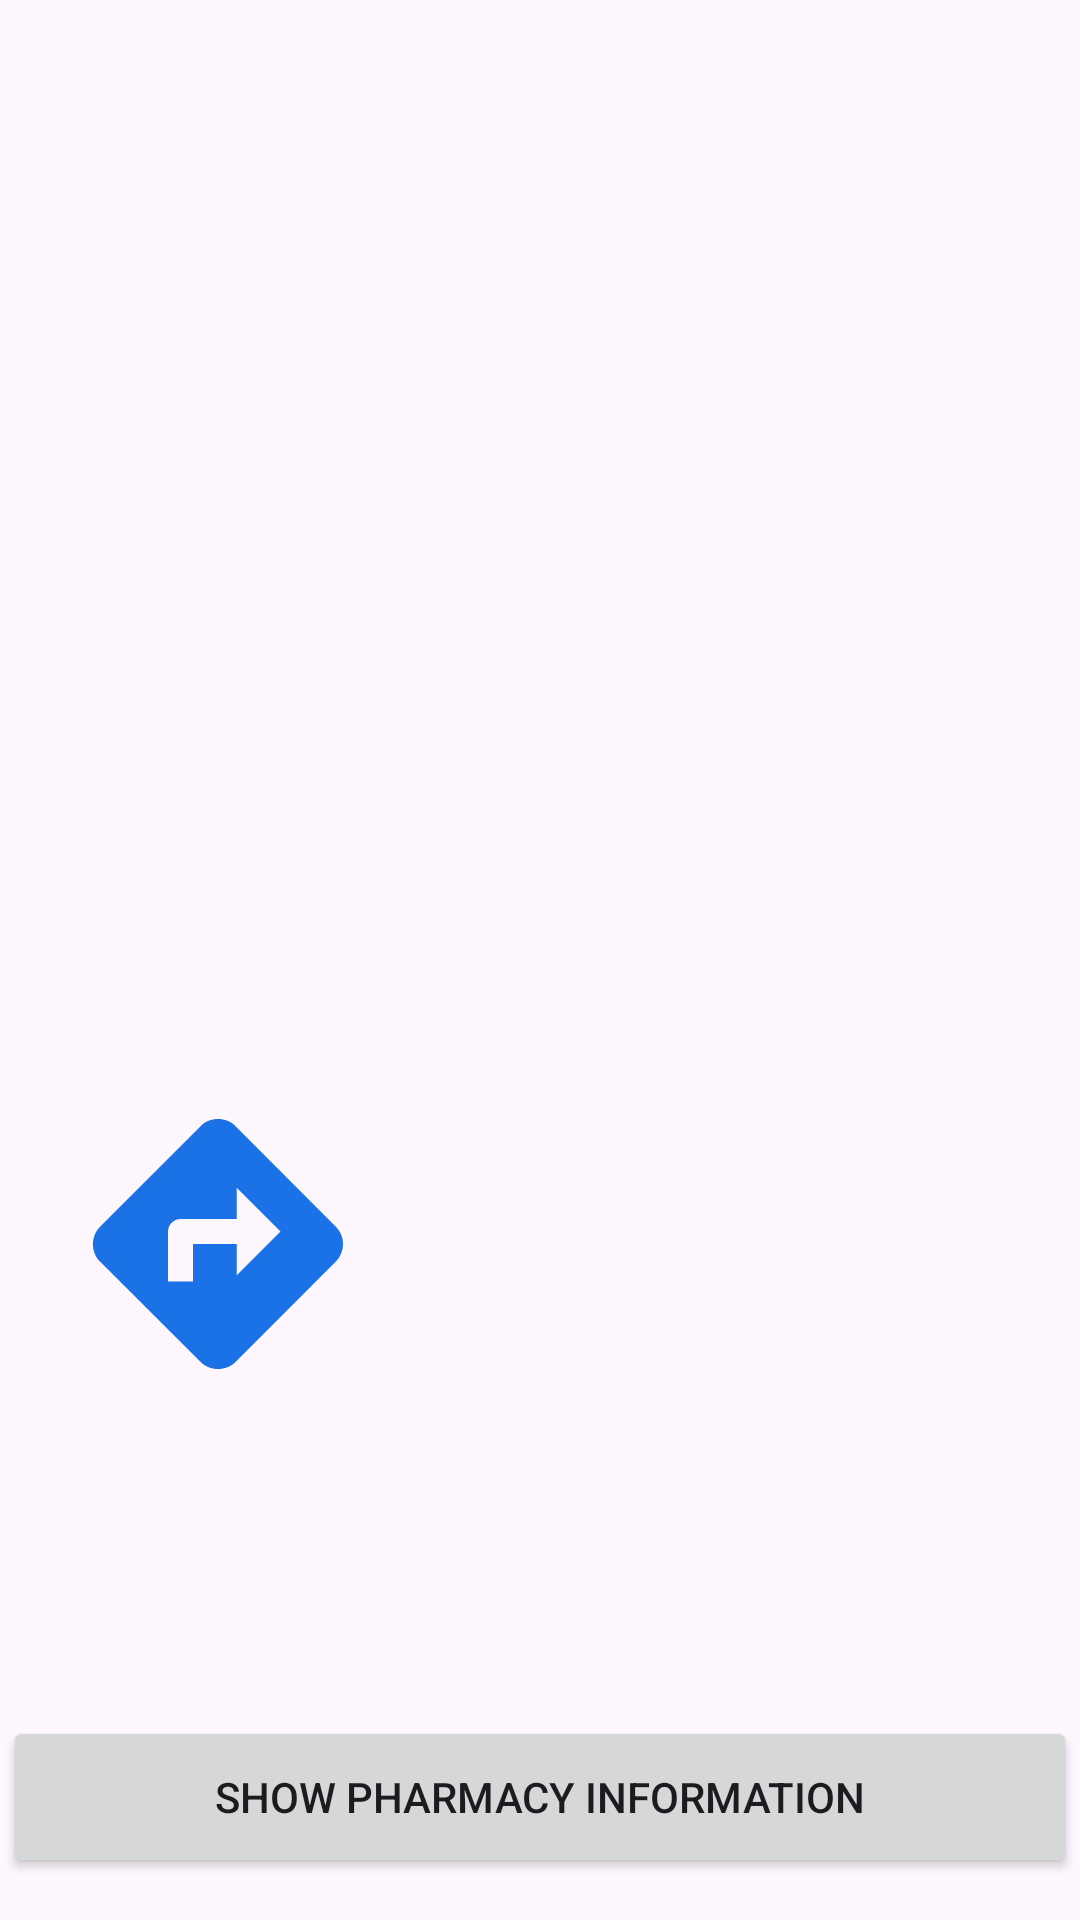

Where to tap for icons on this 1080*1920 app screen, as (x=x, y=y):
directions: (x=218, y=1244)
